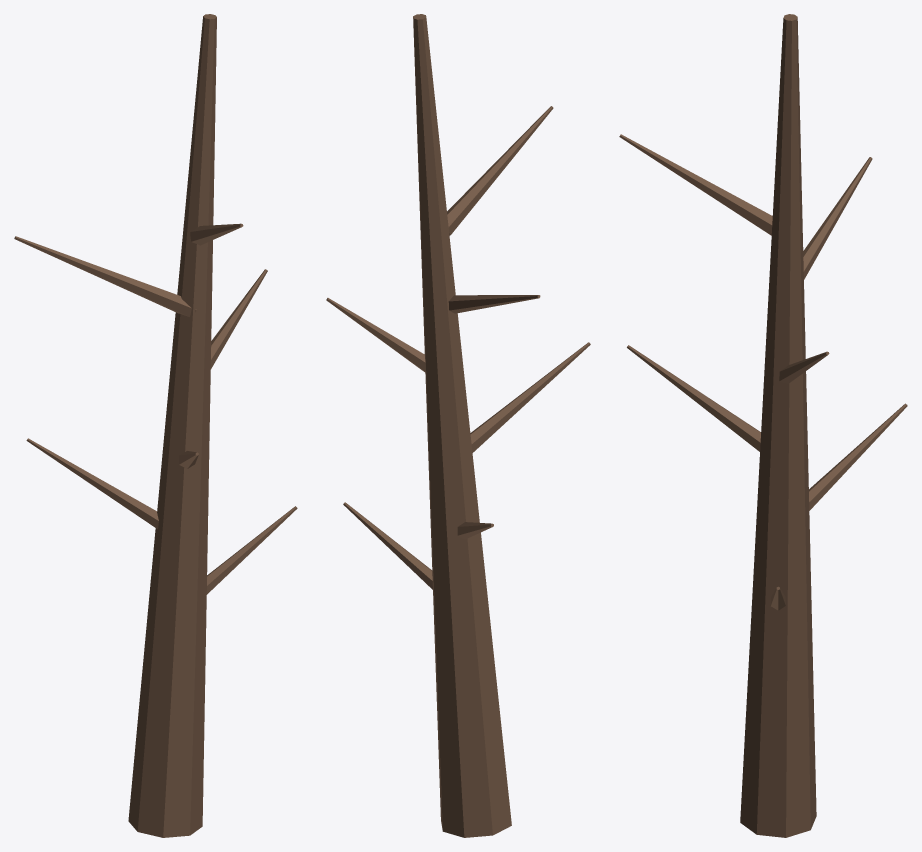
The model's file is deadwood.glb.
The picture shows the model from 3 angles, left to right: view 1: azimuth 30°, elevation 25°; view 2: azimuth 150°, elevation 25°; view 3: azimuth 270°, elevation 25°; orthographic projection. The views are drawn at different scales.
Visible parts, largest first — view 1: Snag, Broken limb.004, Broken limb.001, Broken limb, Broken limb.003, Broken limb.005; view 2: Snag, Broken limb.005, Broken limb.002, Broken limb.003, Broken limb, Broken limb.004; view 3: Snag, Broken limb.005, Broken limb.002, Broken limb.001, Broken limb.004, Broken limb.003.
Part boxes in pixels (x1,y1,x2,y2): Snag: (128,14,216,837); Broken limb.004: (14,236,196,316); Broken limb.001: (26,438,158,529); Broken limb: (206,506,297,594); Broken limb.003: (210,269,267,369); Broken limb.005: (190,223,243,245); Snag: (413,14,511,837); Broken limb.005: (447,106,553,235); Broken limb.002: (470,342,590,452); Broken limb.003: (326,298,425,372); Broken limb: (343,502,432,589); Broken limb.004: (448,295,540,313); Snag: (740,14,816,837); Broken limb.005: (619,134,772,235); Broken limb.002: (627,345,760,451); Broken limb.001: (809,403,907,510); Broken limb.004: (803,157,872,279); Broken limb.003: (779,351,829,383).
Bounding box in the file's own units: 2.37 × 7.53 × 2.37.
